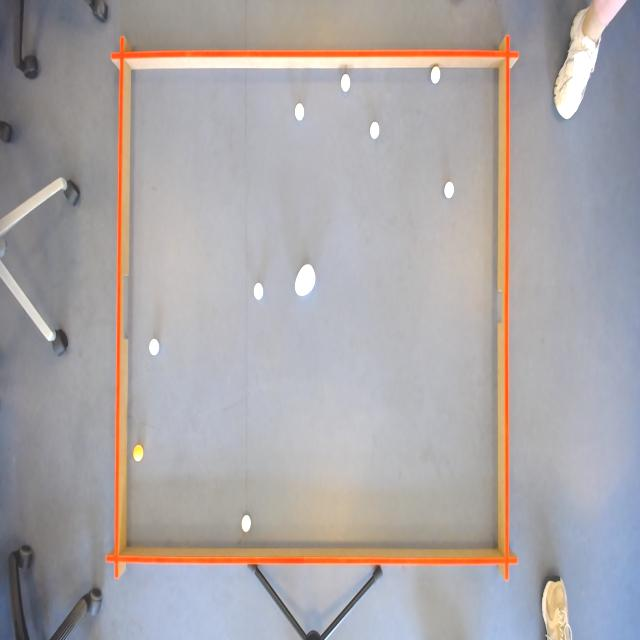egg: (292, 261, 318, 300)
orange_ball: (132, 442, 145, 466)
white_ball: (442, 178, 456, 202), (339, 71, 353, 95), (147, 336, 161, 359), (368, 118, 382, 141), (293, 100, 306, 123), (252, 280, 265, 303), (240, 510, 252, 534), (429, 65, 442, 86)
